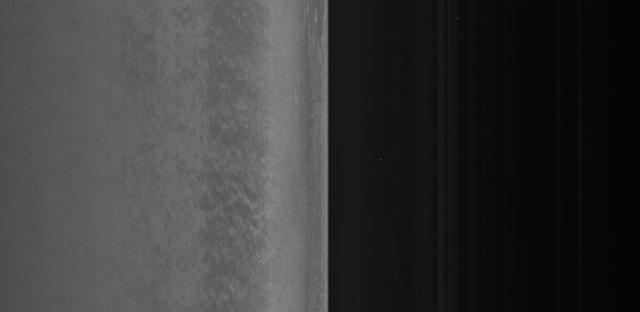silk_spot: (202, 80, 271, 249)
